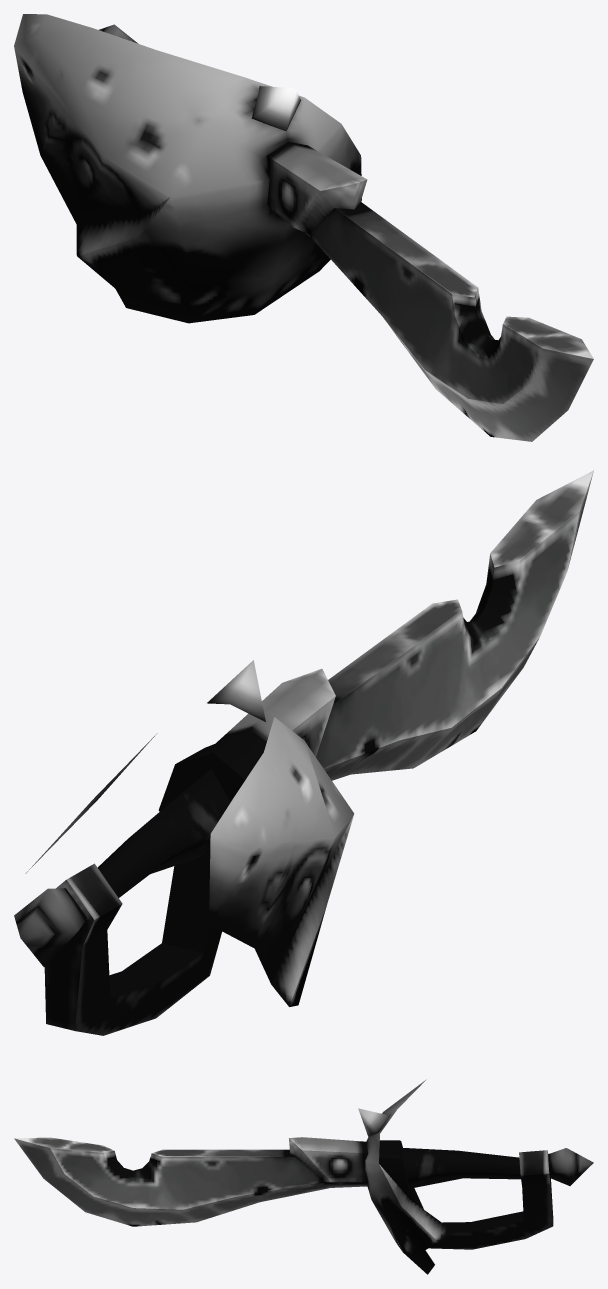
The model's file is model_ghost.glb.
3 renders of one model, top to bottom at view 1: azimuth 30°, elevation 25°; view 2: azimuth 150°, elevation 25°; view 3: azimuth 270°, elevation 25°, orthographic. The views are drawn at different scales.
Visible parts, largest first — view 1: cutlass.model_ghost-Mesh[0]; view 2: cutlass.model_ghost-Mesh[0]; view 3: cutlass.model_ghost-Mesh[0].
Boxes of the visible parts, left/top/right/bottom form: cutlass.model_ghost-Mesh[0]: left=14, top=14, right=593, bottom=441; cutlass.model_ghost-Mesh[0]: left=14, top=470, right=593, bottom=1035; cutlass.model_ghost-Mesh[0]: left=14, top=1079, right=593, bottom=1274.
Size of the model in its own units: 0.4407 by 0.4499 by 1.43.
1 material, 1 textured.
